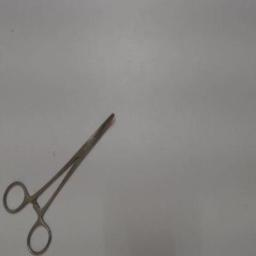Crile Artery Forceps: (2, 109, 118, 255)
